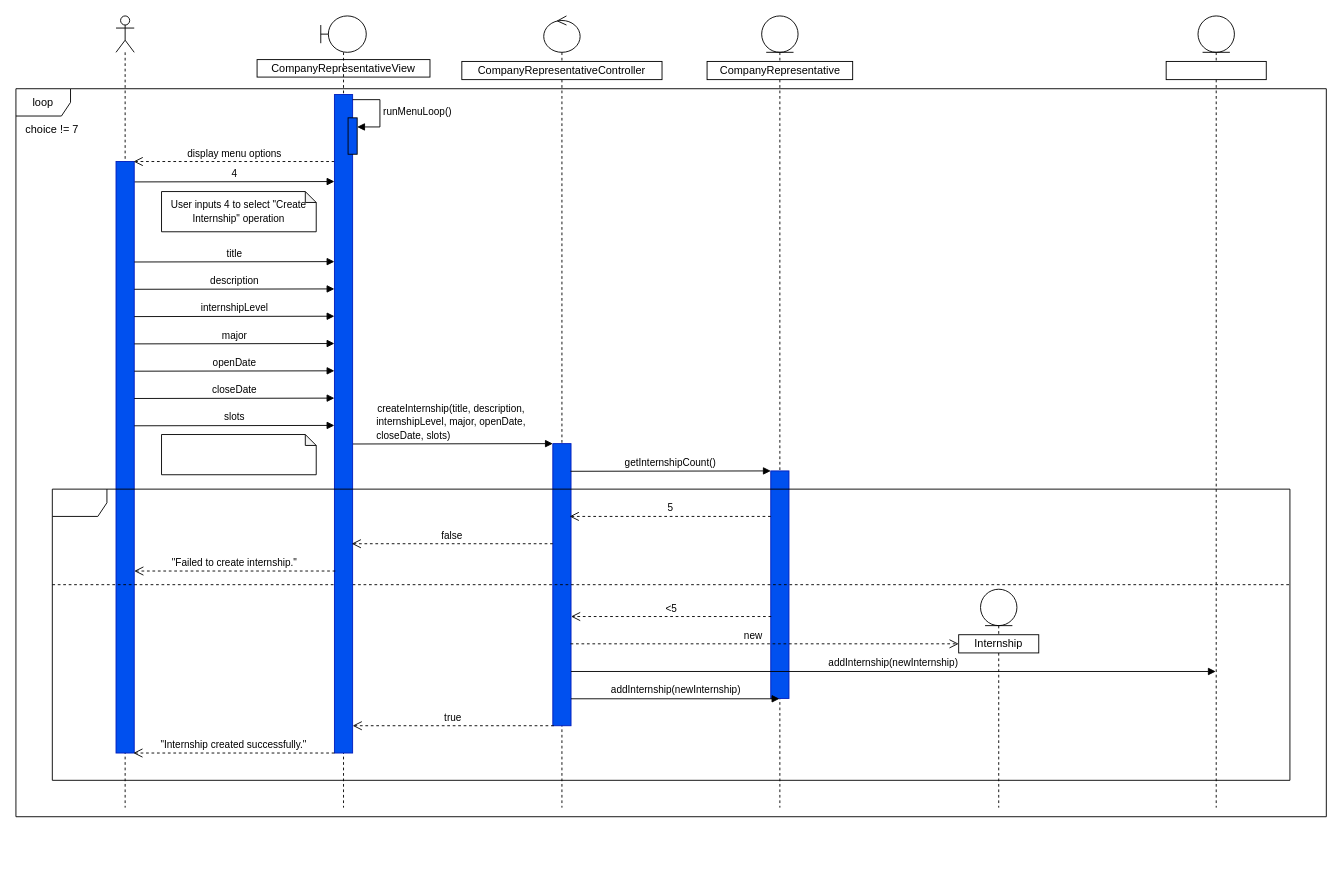
This 1342x869 diagram has some shape labels left out. The centre of each missing label's shape, as x and y in pixels:
alt: the point at 670,634
DataStore: the point at 1215,70
User enters details of the internship opportunity: the point at 238,454
